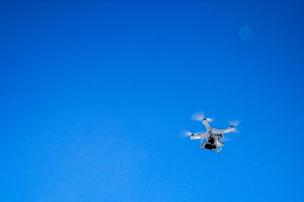UAV: (190, 119, 236, 155)
